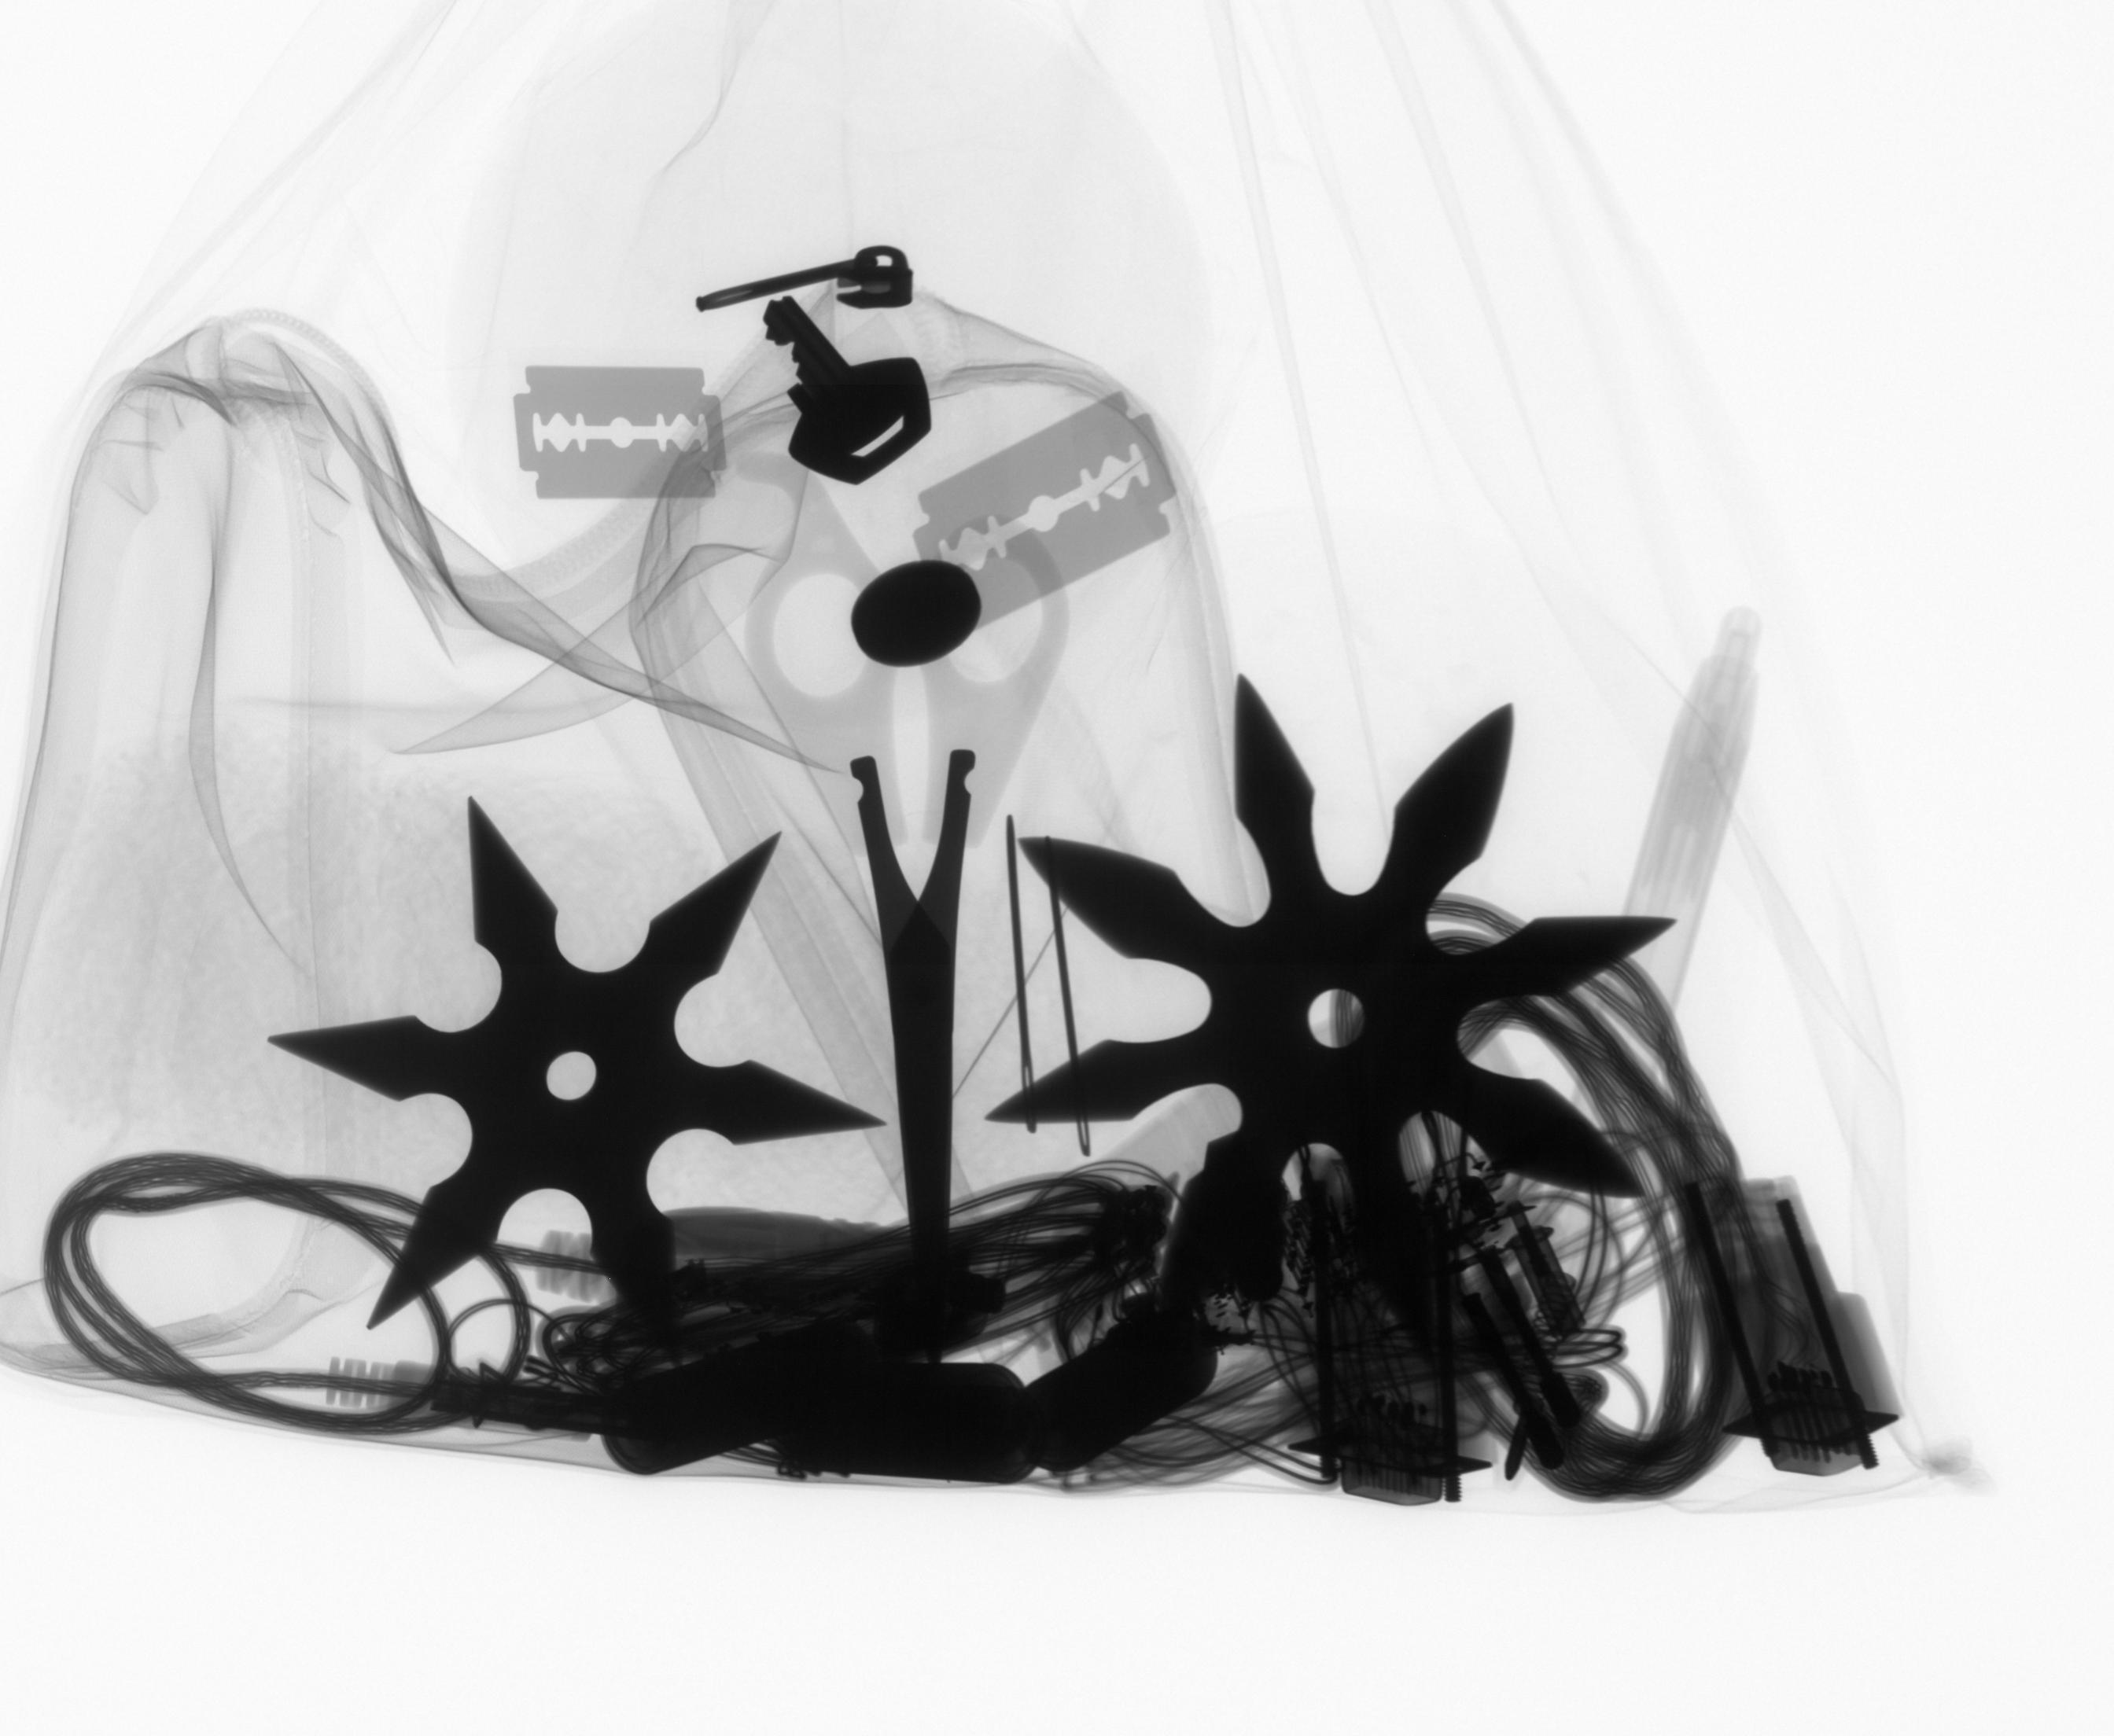RazorBlade: (908, 384, 1178, 649), (500, 332, 767, 521)
Shuriken: (987, 662, 1714, 1301), (267, 776, 883, 1352)
